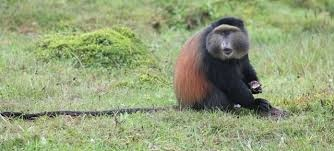monkey: (169, 9, 286, 121)
